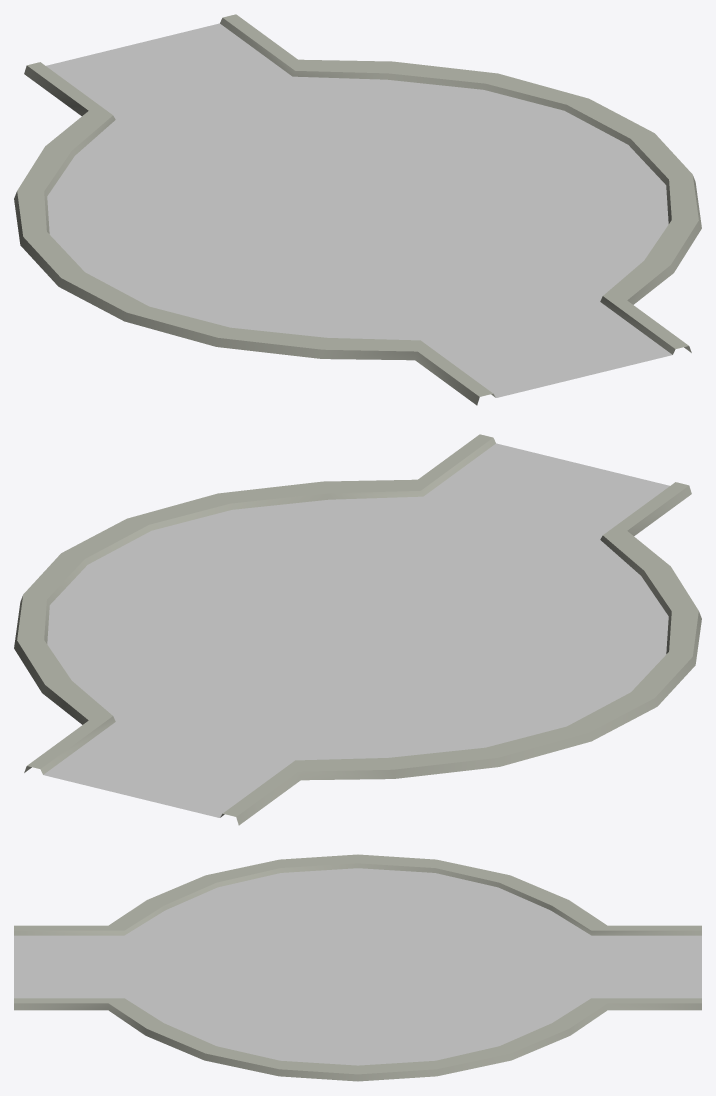
File: ParkRoad_7_C.fbx
The picture shows the model from 3 angles, top to bottom: view 1: azimuth 30°, elevation 25°; view 2: azimuth 150°, elevation 25°; view 3: azimuth 270°, elevation 25°; orthographic projection. The views are drawn at different scales.
Visible parts, largest first — view 1: ParkRoad_7_C; view 2: ParkRoad_7_C; view 3: ParkRoad_7_C.
Boxes of the visible parts, x1,y1,x2,y2 form: ParkRoad_7_C: [14, 14, 701, 405]; ParkRoad_7_C: [14, 434, 701, 825]; ParkRoad_7_C: [14, 854, 701, 1081].
Bounding box in the file's own units: 558 × 7.16 × 731.
